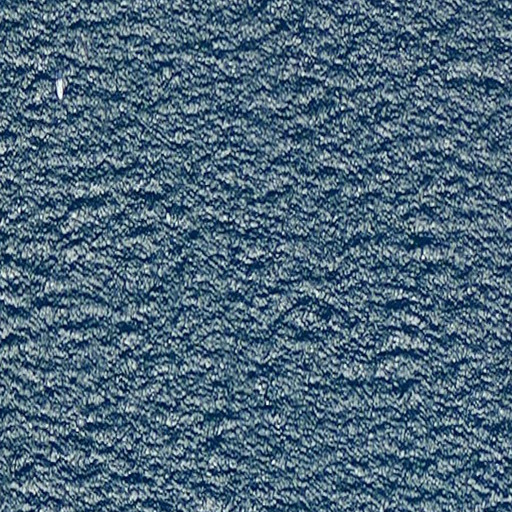ship: (54, 77, 66, 101)
